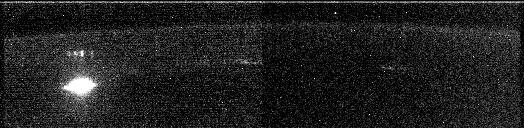positive: (66, 48, 95, 61)
